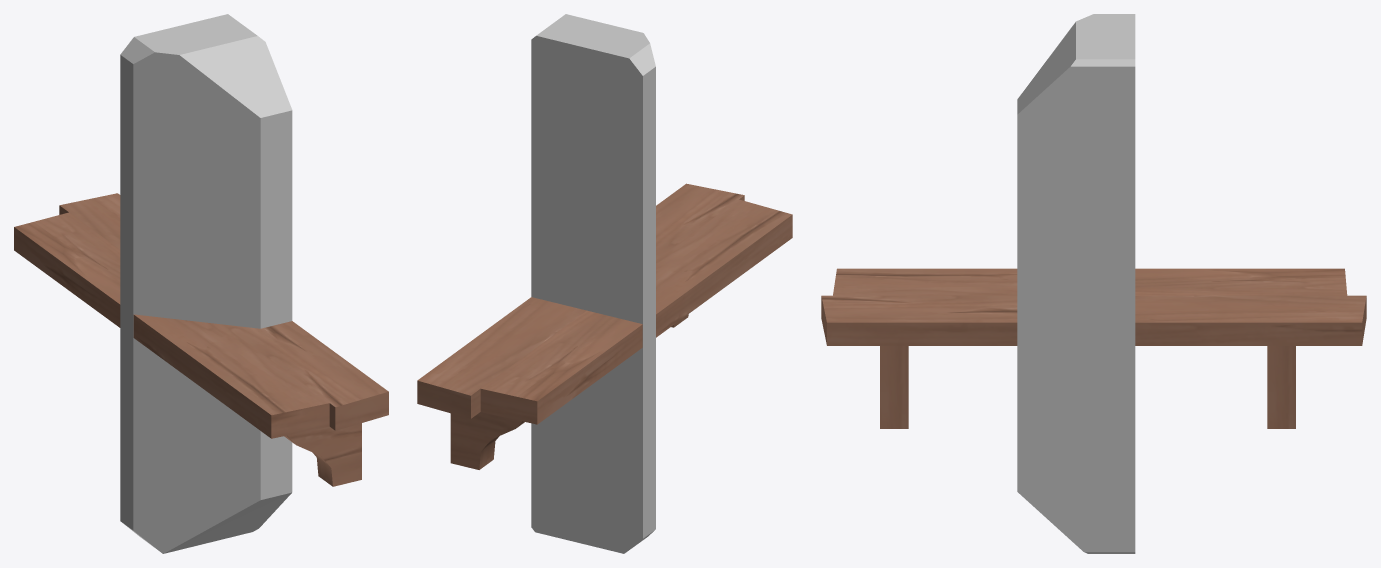
File: SM_wooden_canopy_01.fbx
The picture shows the model from 3 angles, left to right: view 1: azimuth 30°, elevation 25°; view 2: azimuth 150°, elevation 25°; view 3: azimuth 270°, elevation 25°; orthographic projection.
Parts seen in each view (by area): view 1: SM_wooden_canopy_01_ConvexHulls, SM_wooden_canopy_01; view 2: SM_wooden_canopy_01_ConvexHulls, SM_wooden_canopy_01; view 3: SM_wooden_canopy_01_ConvexHulls, SM_wooden_canopy_01.
Part boxes in pixels (x1,y1,x2,y2): SM_wooden_canopy_01_ConvexHulls: (120, 14, 292, 553); SM_wooden_canopy_01: (14, 193, 388, 486); SM_wooden_canopy_01_ConvexHulls: (531, 14, 655, 553); SM_wooden_canopy_01: (417, 183, 792, 469); SM_wooden_canopy_01_ConvexHulls: (1017, 14, 1135, 553); SM_wooden_canopy_01: (821, 268, 1366, 428).
Size of the model in its own units: 100 by 426 by 426.
